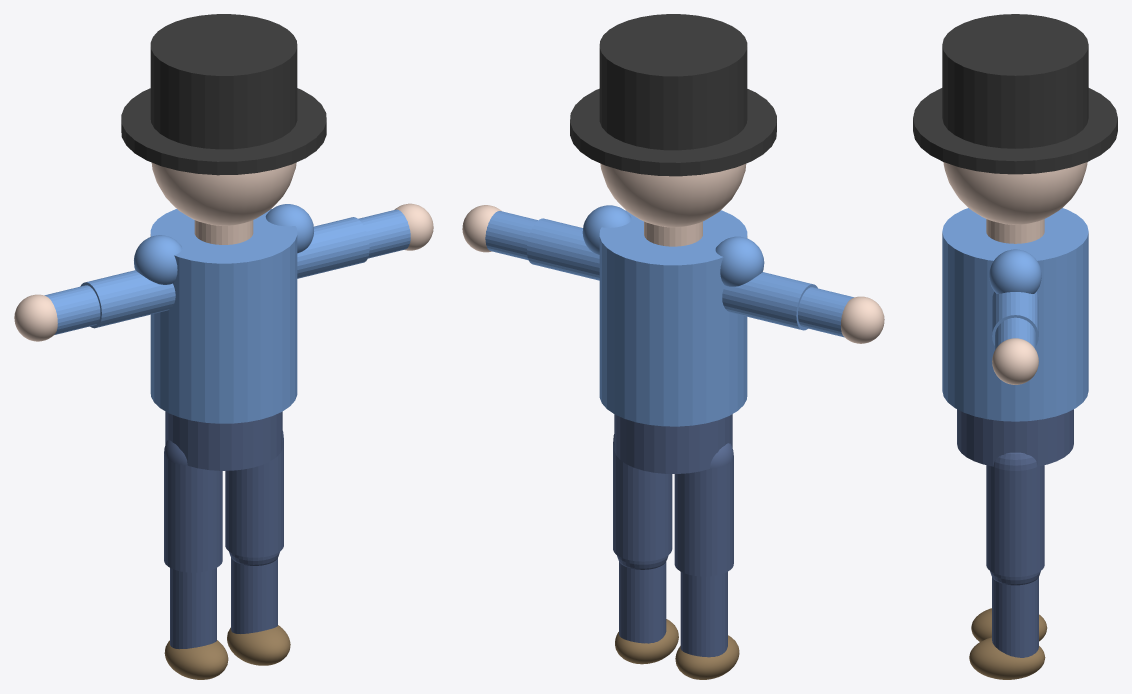
File: SimplePerson.fbx
3 views of the same model, side by side, from view 1: azimuth 30°, elevation 25°; view 2: azimuth 150°, elevation 25°; view 3: azimuth 270°, elevation 25° (orthographic).
Parts seen in each view (by area): view 1: Torso, Hat_Top, Hat_Brim, Left_Thigh, Head, Right_Thigh, Pelvis, Left_Shin, Left_Upper_Arm, Right_Shin, Right_Upper_Arm, Right_Foot (+8 smaller); view 2: Torso, Hat_Top, Hat_Brim, Left_Thigh, Head, Right_Thigh, Pelvis, Left_Shin, Right_Shin, Left_Upper_Arm, Right_Upper_Arm, Left_Forearm (+8 smaller); view 3: Torso, Hat_Top, Hat_Brim, Right_Thigh, Head, Pelvis, Right_Shin, Right_Shoulder, Right_Foot, Right_Hand, Right_Upper_Arm, Neck (+4 smaller).
Boxes of the visible parts, x1=… form: Torso: x1=150, y1=209, x2=297, y2=423; Hat_Top: x1=150, y1=14, x2=297, y2=149; Hat_Brim: x1=121, y1=88, x2=326, y2=175; Left_Thigh: x1=164, y1=454, x2=222, y2=572; Head: x1=151, y1=162, x2=296, y2=225; Right_Thigh: x1=225, y1=440, x2=283, y2=557; Pelvis: x1=165, y1=411, x2=282, y2=470; Left_Shin: x1=170, y1=568, x2=216, y2=649; Left_Upper_Arm: x1=80, y1=270, x2=175, y2=328; Right_Shin: x1=231, y1=557, x2=277, y2=633; Right_Upper_Arm: x1=297, y1=217, x2=369, y2=278; Right_Foot: x1=227, y1=625, x2=290, y2=665; Torso: x1=599, y1=210, x2=747, y2=426; Hat_Top: x1=599, y1=14, x2=747, y2=150; Hat_Brim: x1=570, y1=88, x2=776, y2=176; Left_Thigh: x1=674, y1=456, x2=733, y2=576; Head: x1=600, y1=163, x2=746, y2=227; Right_Thigh: x1=613, y1=443, x2=672, y2=561; Pelvis: x1=614, y1=414, x2=732, y2=473; Left_Shin: x1=680, y1=571, x2=727, y2=657; Right_Shin: x1=619, y1=561, x2=666, y2=643; Left_Upper_Arm: x1=722, y1=272, x2=817, y2=330; Right_Upper_Arm: x1=527, y1=218, x2=599, y2=280; Left_Forearm: x1=798, y1=287, x2=853, y2=337; Torso: x1=942, y1=208, x2=1088, y2=421; Hat_Top: x1=942, y1=14, x2=1088, y2=148; Hat_Brim: x1=913, y1=88, x2=1117, y2=174; Right_Thigh: x1=986, y1=465, x2=1044, y2=576; Head: x1=943, y1=162, x2=1087, y2=224; Pelvis: x1=957, y1=409, x2=1073, y2=466; Right_Shin: x1=992, y1=577, x2=1038, y2=657; Right_Shoulder: x1=989, y1=249, x2=1041, y2=293; Right_Foot: x1=969, y1=637, x2=1045, y2=679; Right_Hand: x1=992, y1=338, x2=1038, y2=384; Right_Upper_Arm: x1=992, y1=292, x2=1038, y2=345; Neck: x1=986, y1=219, x2=1044, y2=243.
Bounding box in the file's own units: 162 × 232 × 70.
